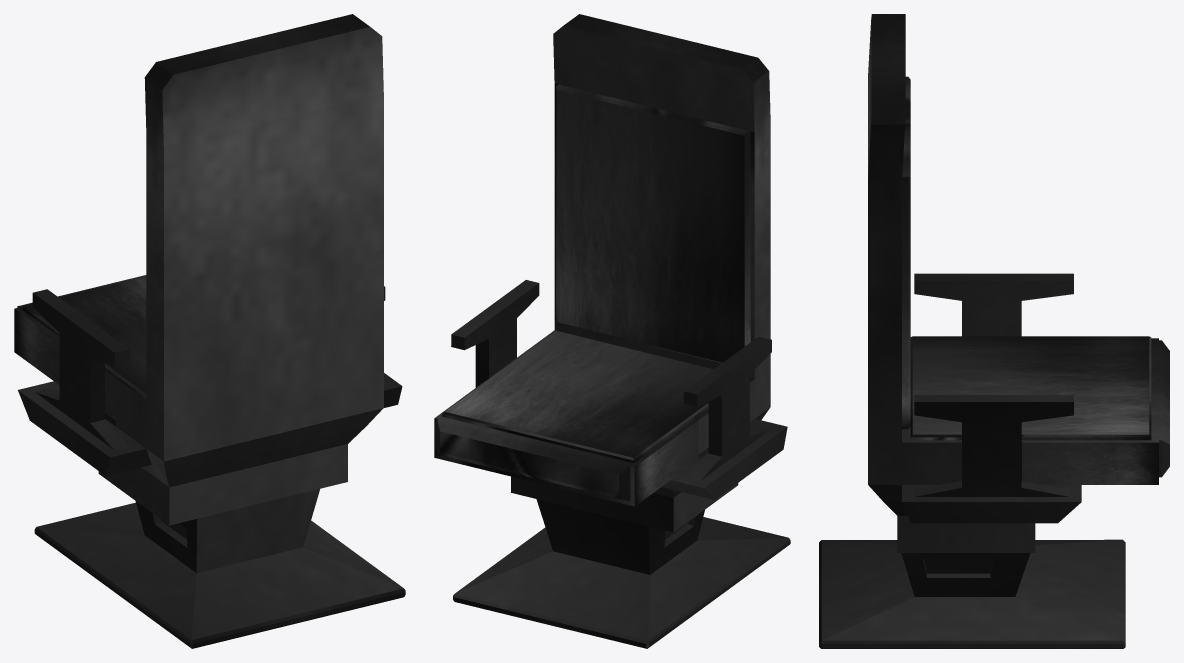
File: cadera_escritorio.fbx
3 views of the same model, side by side, from view 1: azimuth 30°, elevation 25°; view 2: azimuth 150°, elevation 25°; view 3: azimuth 270°, elevation 25° (orthographic). The views are drawn at different scales.
Visible parts, largest first — view 1: cadera_escritorio; view 2: cadera_escritorio; view 3: cadera_escritorio.
Boxes of the visible parts, x1,y1,x2,y2 form: cadera_escritorio: [14, 14, 405, 648]; cadera_escritorio: [434, 14, 790, 648]; cadera_escritorio: [819, 14, 1169, 648].
Bounding box in the file's own units: 180 × 326 × 193.
Materials: 1 (1 with a texture image).
